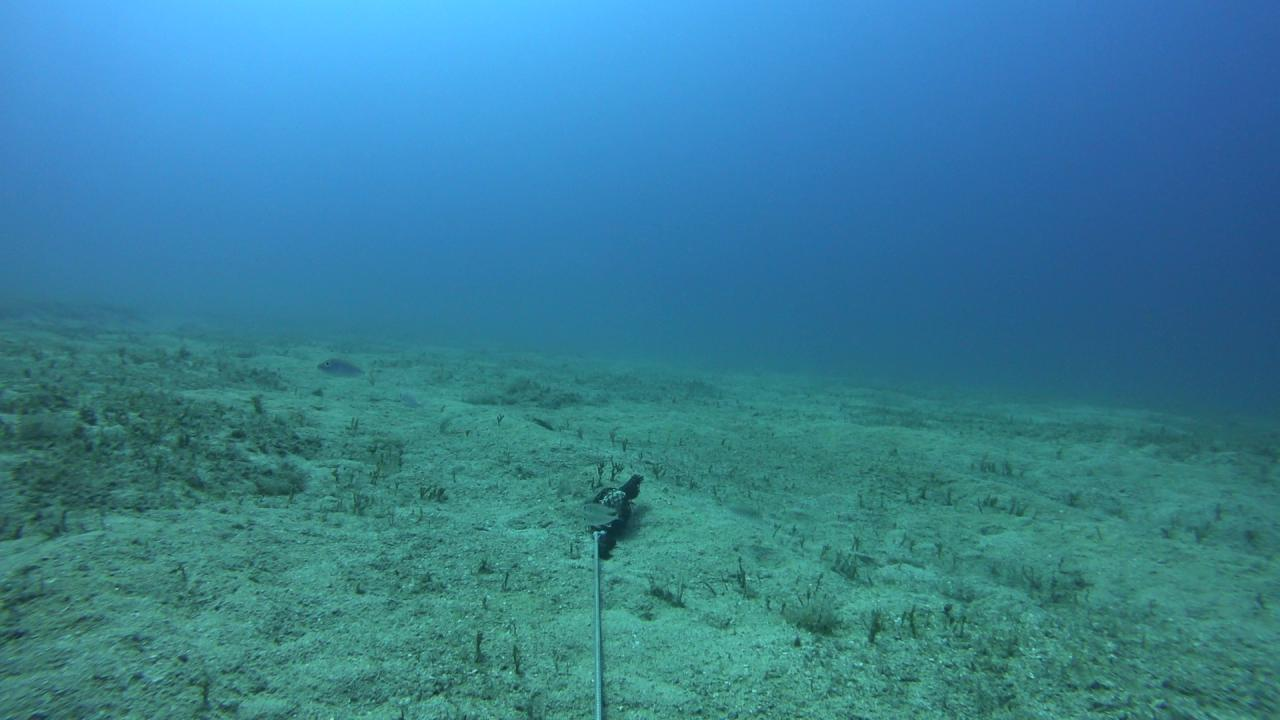pagellus: (314, 356, 377, 387), (582, 510, 626, 529), (578, 498, 617, 518), (402, 390, 424, 406)
